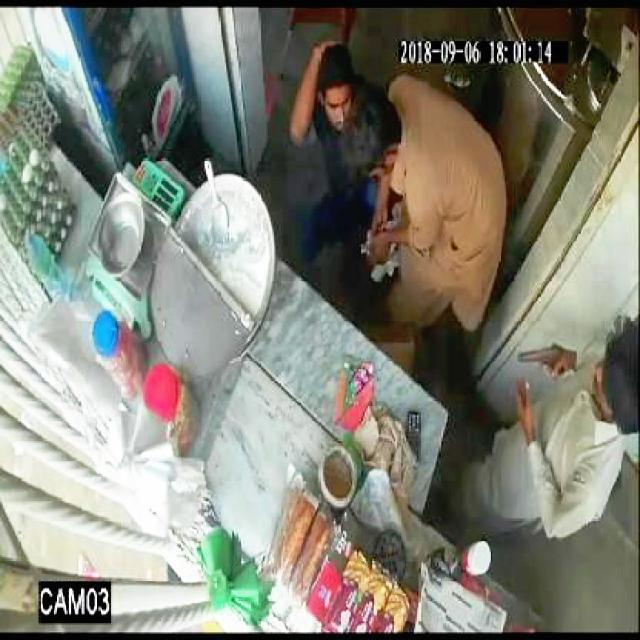Gun: (502, 330, 583, 378)
